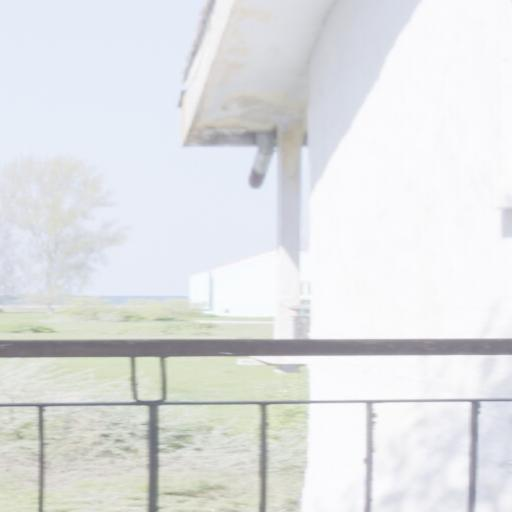nothing: (3, 2, 511, 512)
